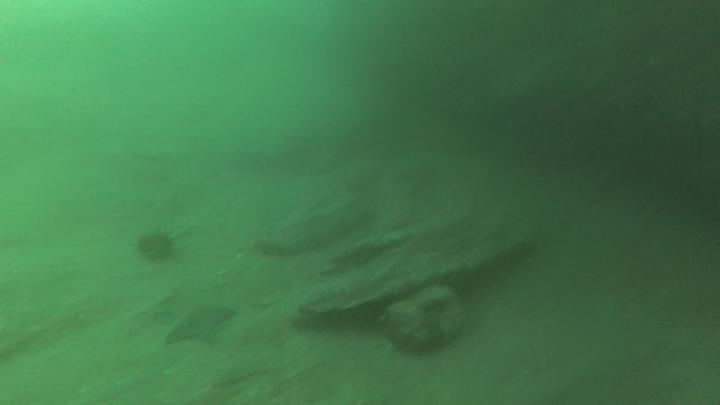echinus: (140, 237, 177, 264)
starfish: (159, 297, 234, 345)
